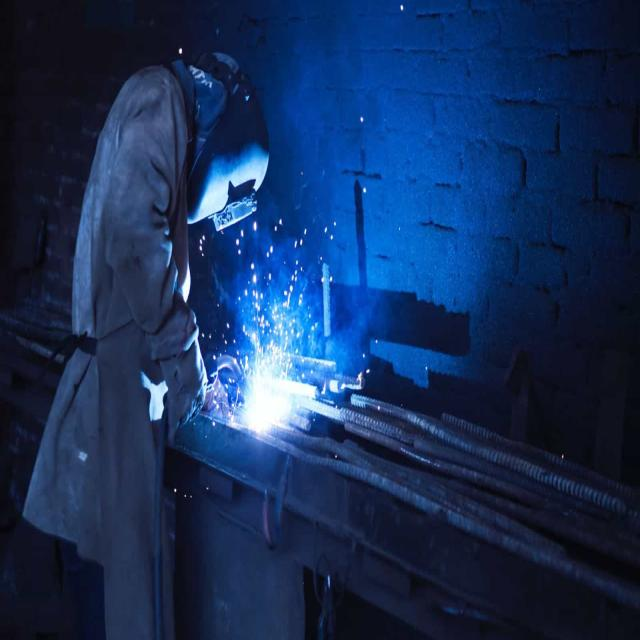welding: (250, 376, 290, 430)
